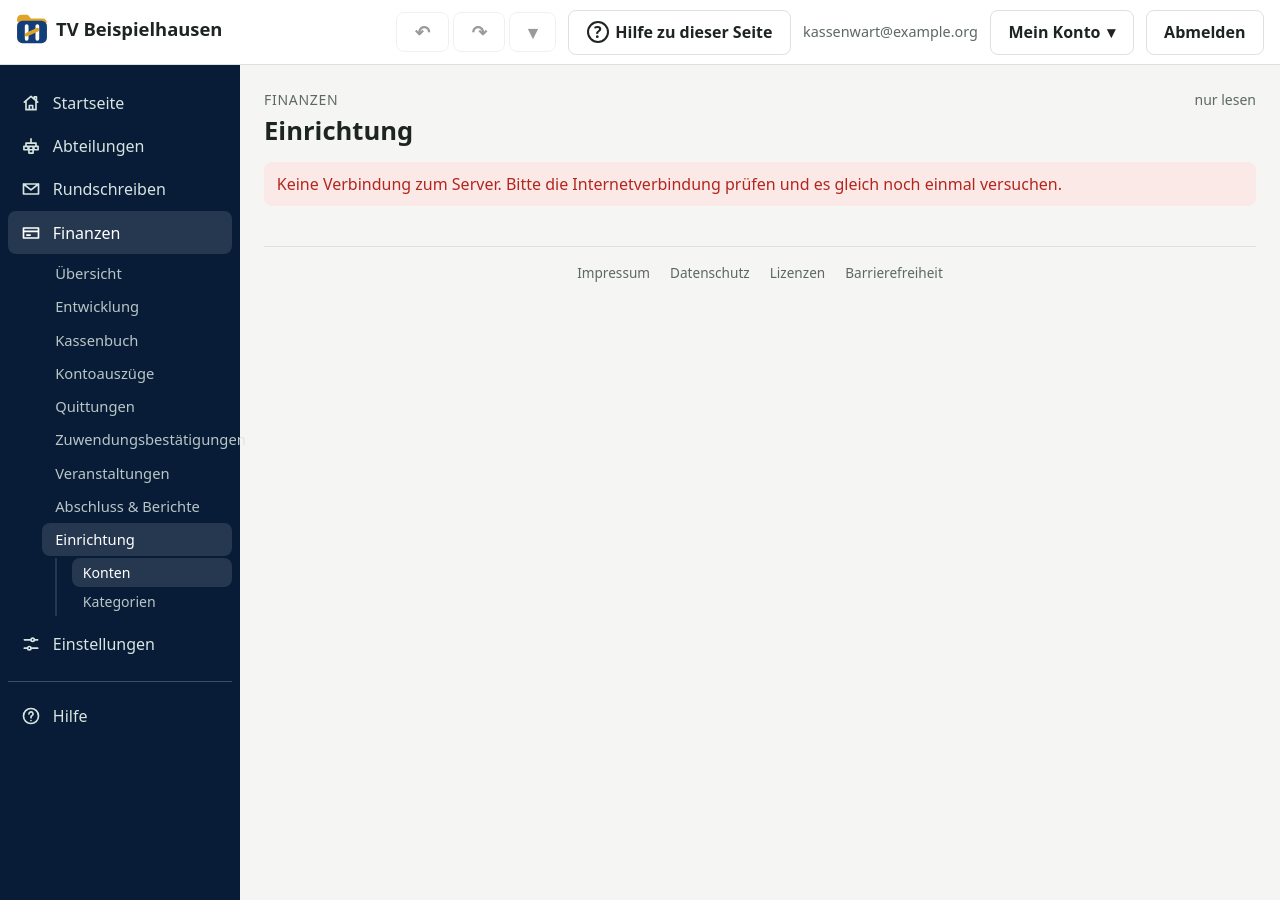
Finanzen › zeigt Kassenprüfern nur lesend die Kasse
The width and height of the screenshot is (1280, 900).
Expected: the text "nur lesen" is shown, [1194,89,1256,110]
Expected: the link "Kassenbuch" is shown, [55,330,138,350]
Click the link "Übersicht".
click(88, 273)  # box [55,263,122,283]
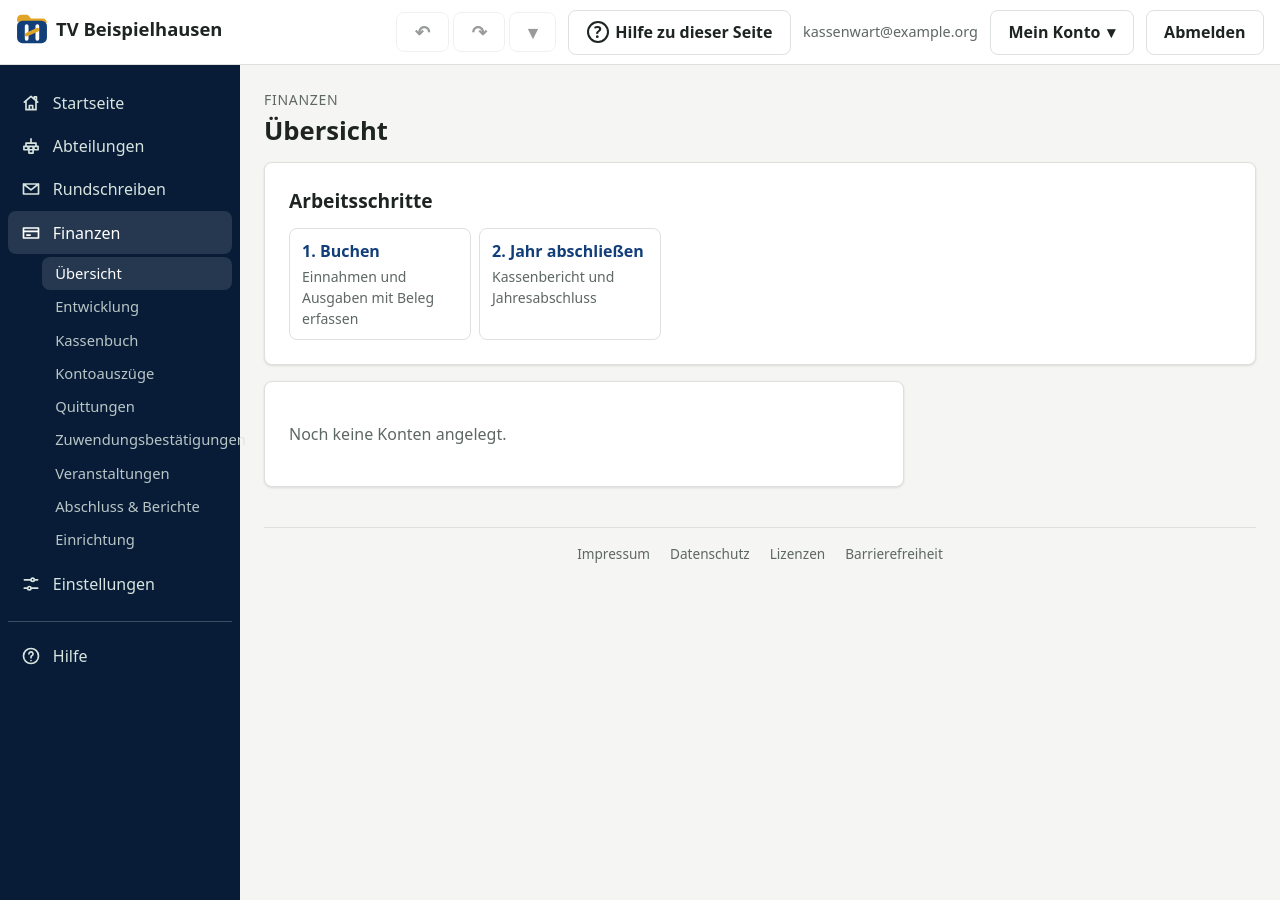
Result: the text "Noch keine Konten angelegt." is shown at [289,422,506,444]
